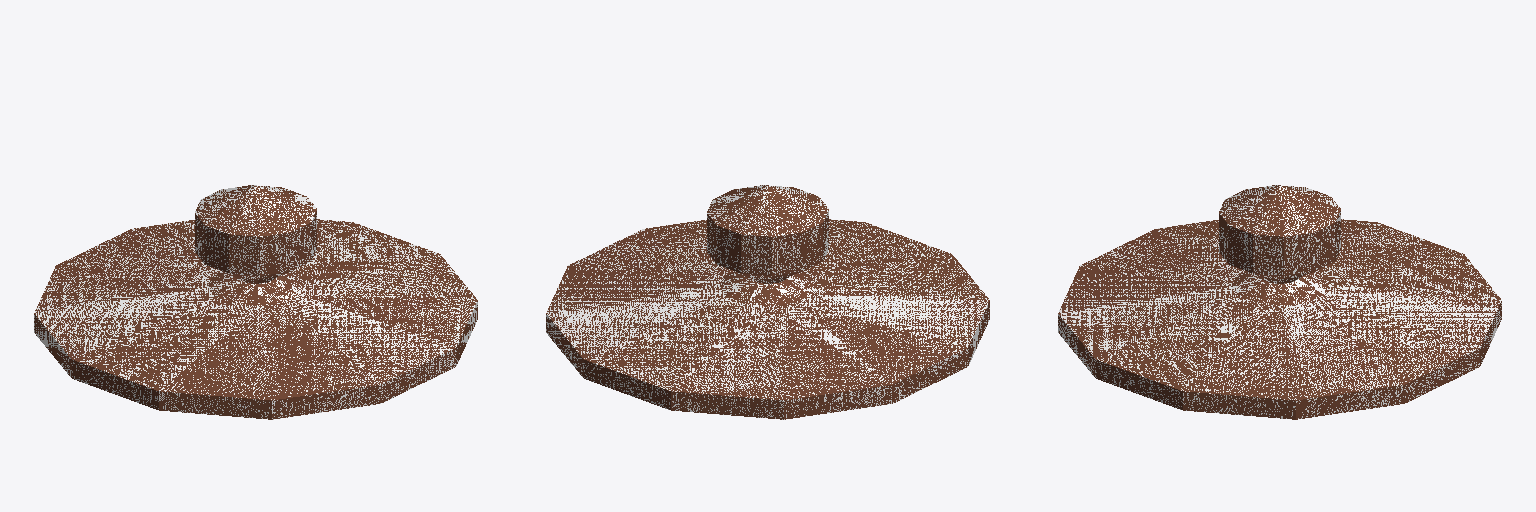
The model's file is original-2.obj.
3 renders of one model, left to right at view 1: azimuth 30°, elevation 25°; view 2: azimuth 150°, elevation 25°; view 3: azimuth 270°, elevation 25°, orthographic.
Visible parts, largest first — view 1: Group1/mesh1/mesh1-geometry#mesh1-geometry; view 2: Group1/mesh1/mesh1-geometry#mesh1-geometry; view 3: Group1/mesh1/mesh1-geometry#mesh1-geometry.
Boxes of the visible parts, x1,y1,x2,y2 form: Group1/mesh1/mesh1-geometry#mesh1-geometry: [34, 185, 477, 419]; Group1/mesh1/mesh1-geometry#mesh1-geometry: [546, 185, 989, 419]; Group1/mesh1/mesh1-geometry#mesh1-geometry: [1058, 185, 1501, 419].
Bounding box in the file's own units: 0.7014 × 0.2441 × 0.7014.